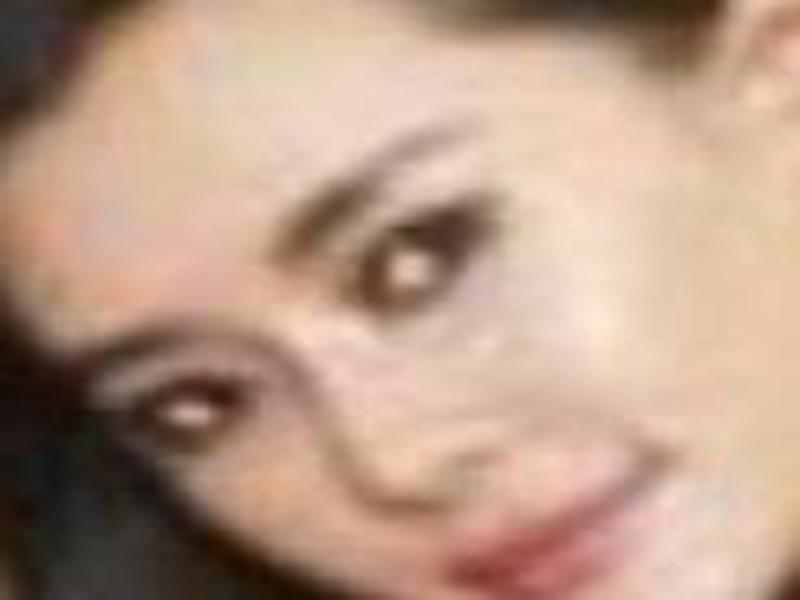without_mask: (4, 12, 800, 599)
